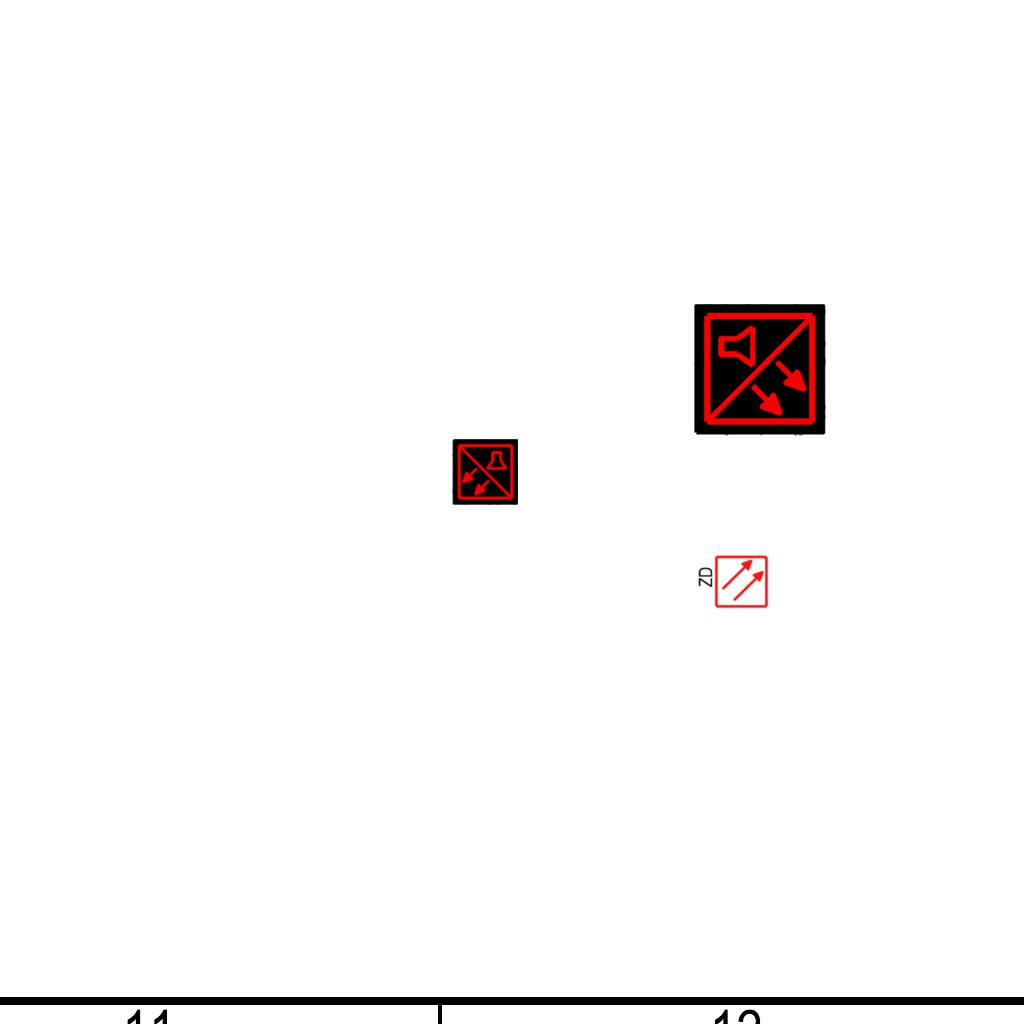OKW_Multisensormelder_(Kombination_optischer_Rauch-Kahlenmonoxid_Waerme-Melder): (694, 304, 826, 436), (452, 439, 518, 505)
ZD_Melder_in_Zwischendecke_mit_Revisionsoeffnung_mind_40_x_40_cm: (695, 554, 769, 611)
